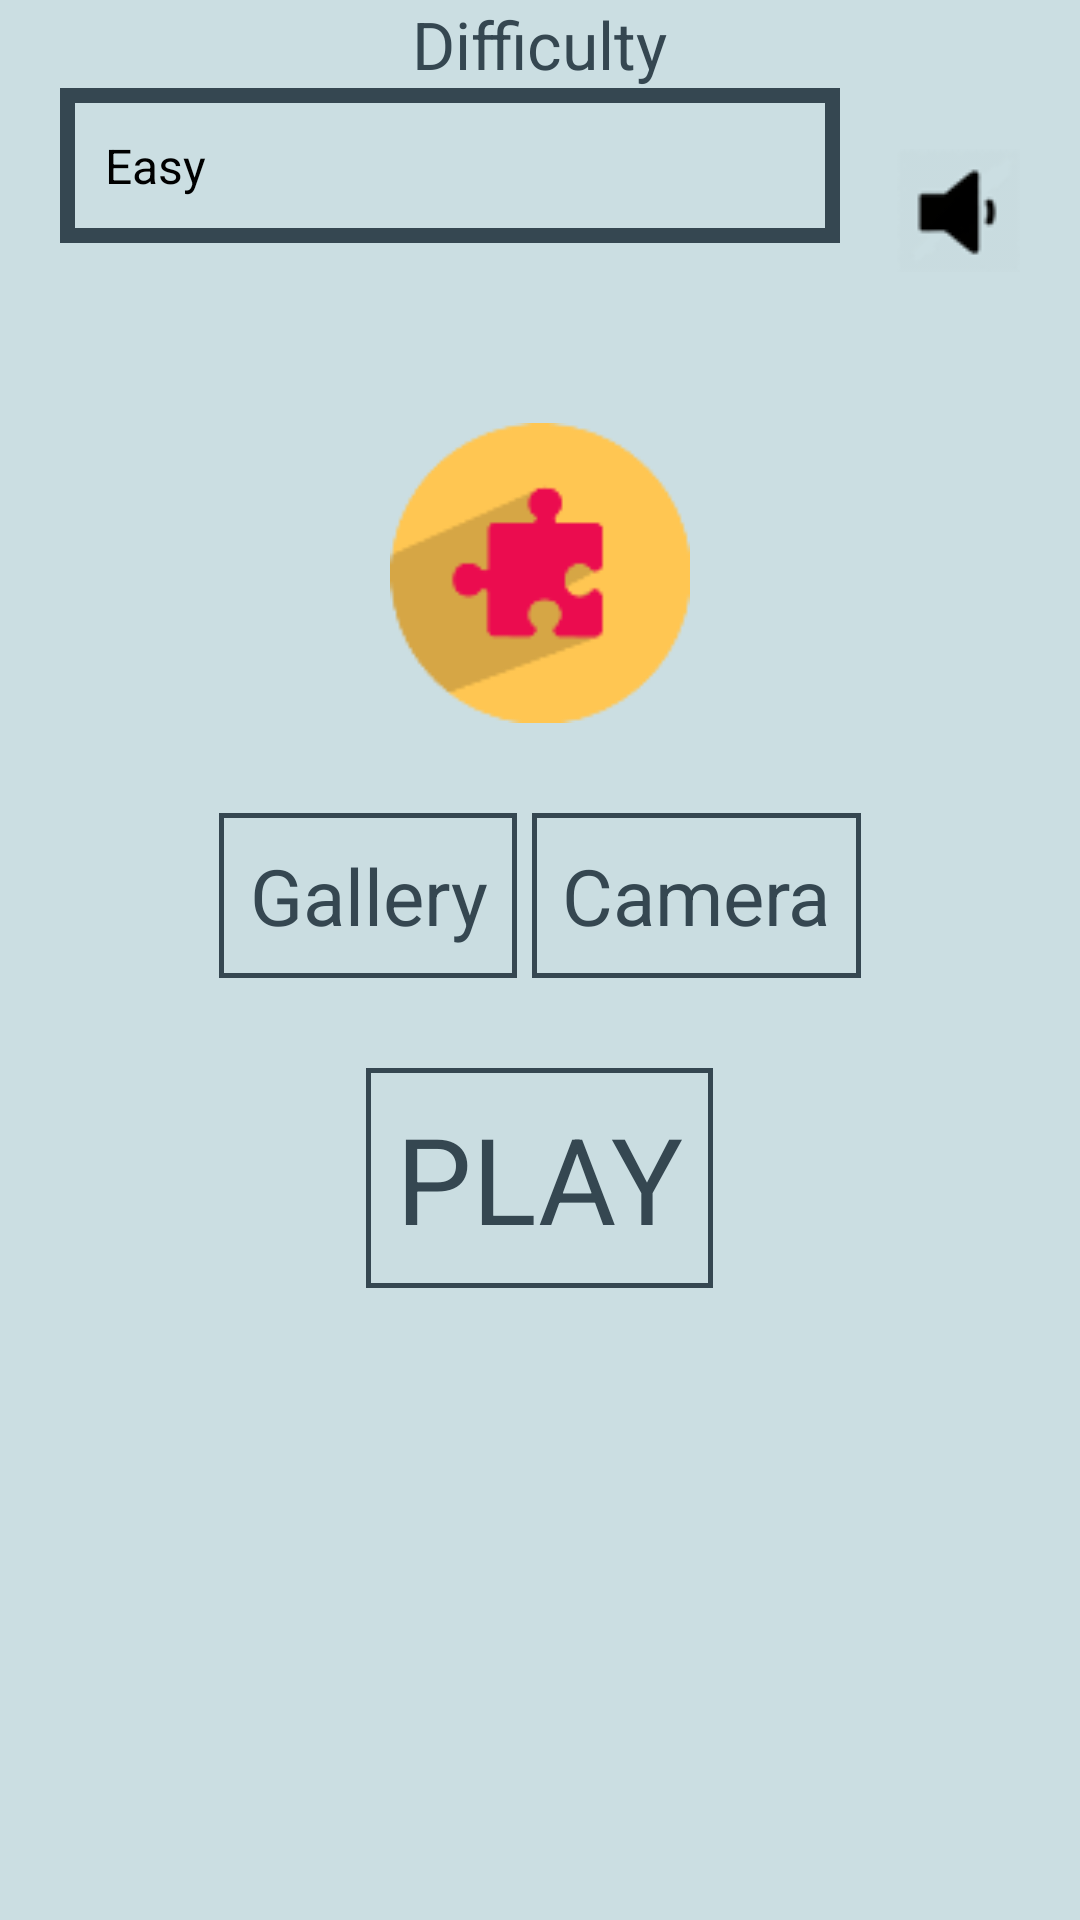

Icons on this 1080w x 1920h Android screen, each with the point to tap as (x=x, y=y):
music: (x=957, y=212)
